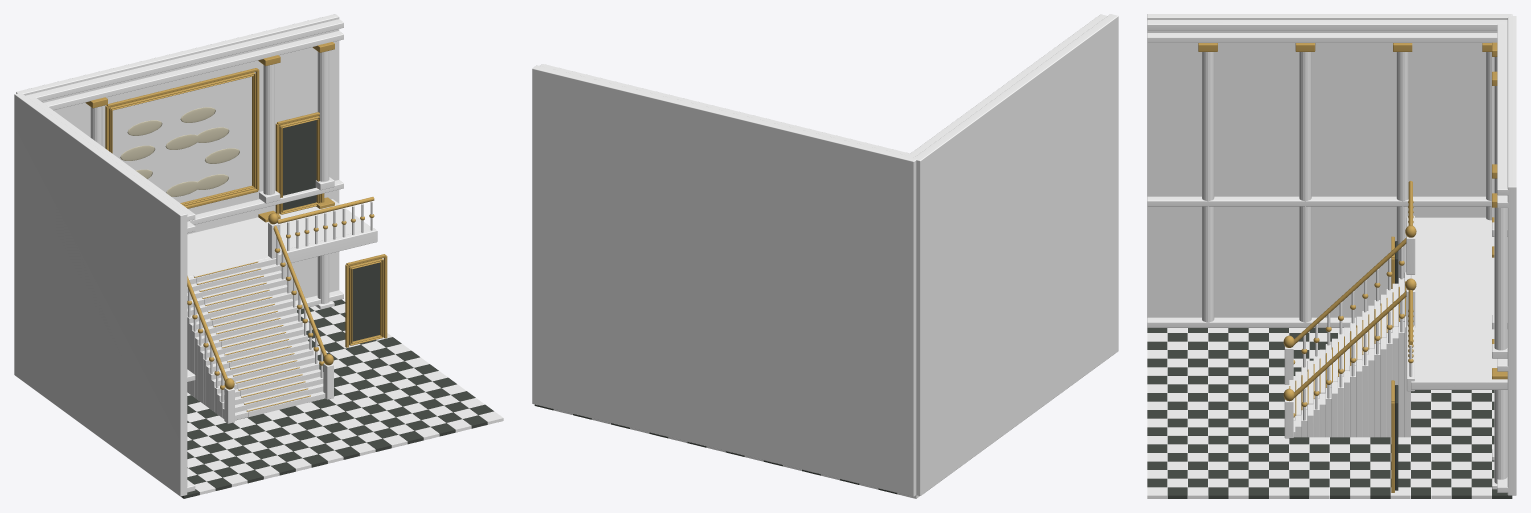
Rendered from hall.glb.
3 renders of one model, left to right at view 1: azimuth 30°, elevation 25°; view 2: azimuth 150°, elevation 25°; view 3: azimuth 270°, elevation 25°, orthographic. The views are drawn at different scales.
Parts seen in each view (by area): view 1: Hall left wall, Hall rear wall, Monumental painted panel, Upper landing, Hall cornice.003, Hall cornice.002, Upper dark door.001, Ground door backdrop.001, Double height pilaster.005, Double height pilaster.007, Landing front fascia.001, Hall cornice.001 (+4 smaller); view 2: Hall rear wall, Hall left wall, Hall cornice left.003, Hall cornice.003; view 3: Hall left wall, Upper landing, Hall rear wall, Hall cornice left.003, Hall cornice left.001, Hall cornice left.002, Side monumental column, Side monumental column.001, Side monumental column.002, Hall cornice left, Double height pilaster.007, Hall cornice.003 (+18 smaller).
Boxes of the visible parts, x1,y1,x2,y2 form: Hall left wall: (14, 93, 187, 496); Hall rear wall: (16, 14, 339, 300); Monumental painted panel: (109, 76, 251, 202); Upper landing: (187, 199, 370, 277); Hall cornice.003: (26, 19, 343, 101); Hall cornice.002: (43, 31, 343, 110); Upper dark door.001: (279, 120, 316, 210); Ground door backdrop.001: (349, 262, 379, 345); Double height pilaster.005: (263, 64, 274, 194); Double height pilaster.007: (317, 51, 329, 181); Landing front fascia.001: (278, 228, 377, 265); Hall cornice.001: (189, 180, 343, 224); Hall rear wall: (532, 65, 916, 496); Hall left wall: (913, 14, 1118, 495); Hall cornice left.003: (908, 14, 1106, 157); Hall cornice.003: (540, 64, 915, 155); Hall left wall: (1147, 14, 1512, 317); Upper landing: (1411, 217, 1507, 389); Hall rear wall: (1507, 16, 1516, 495); Hall cornice left.003: (1147, 20, 1507, 30); Hall cornice left.001: (1147, 196, 1491, 206); Hall cornice left.002: (1147, 33, 1497, 42); Side monumental column: (1202, 52, 1214, 322); Side monumental column.001: (1299, 52, 1311, 322); Side monumental column.002: (1396, 52, 1408, 283); Hall cornice left: (1147, 317, 1355, 327); Double height pilaster.007: (1494, 207, 1507, 350); Hall cornice.003: (1497, 20, 1508, 195).
Bounding box in the file's own units: 10.11 × 8.5 × 9.11.
